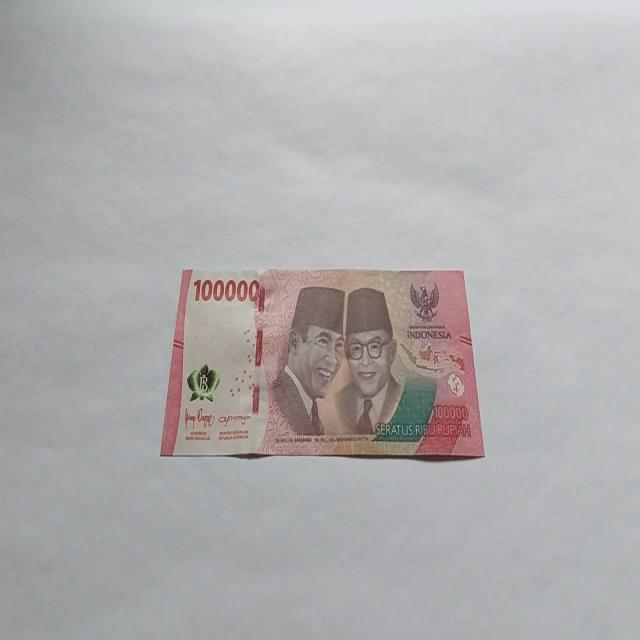seratus ribu rupiah: (160, 264, 485, 460), (260, 284, 346, 450)
